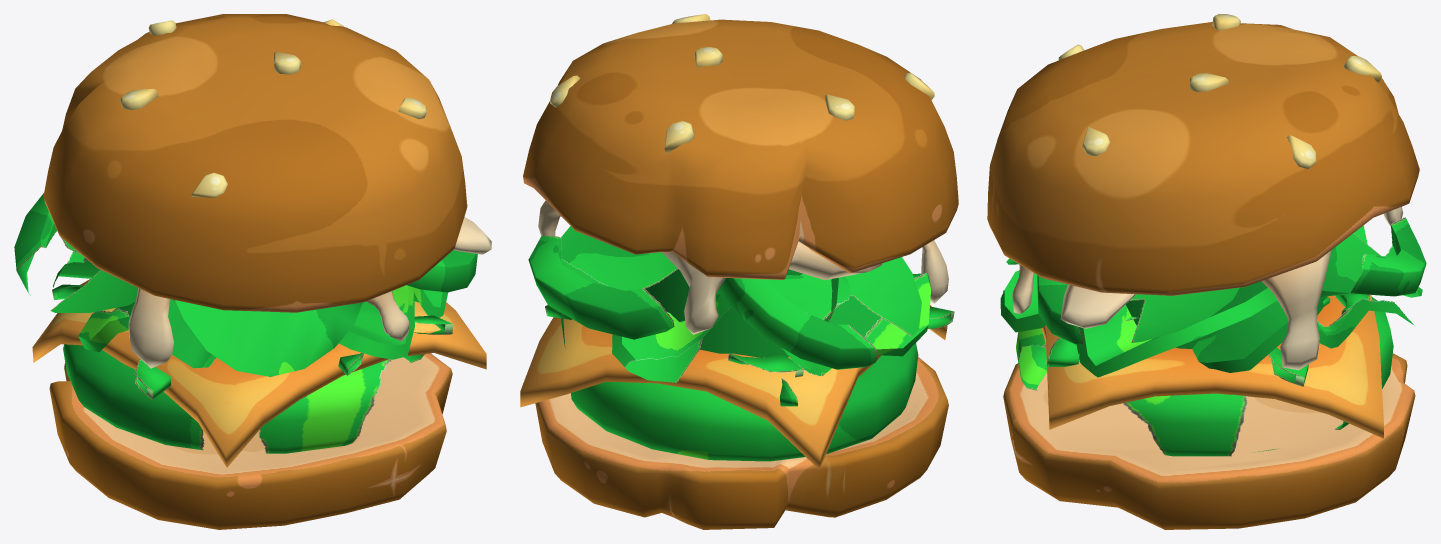
Rendered from Burger.fbx.
The picture shows the model from 3 angles, left to right: view 1: azimuth 30°, elevation 25°; view 2: azimuth 150°, elevation 25°; view 3: azimuth 270°, elevation 25°; orthographic projection. The views are drawn at different scales.
Visible parts, largest first — view 1: Buns, Tomato, Cheese, Patty, Lettuce, Sauce, Seeds, Onion; view 2: Buns, Tomato, Patty, Cheese, Lettuce, Sauce, Seeds, Onion; view 3: Buns, Cheese, Lettuce, Tomato, Patty, Sauce, Seeds, Onion.
Part boxes in pixels (left/top/right/bottom): Buns: left=43, top=14, right=467, bottom=529; Tomato: left=14, top=193, right=477, bottom=376; Cheese: left=32, top=279, right=486, bottom=467; Patty: left=63, top=344, right=424, bottom=453; Lettuce: left=53, top=251, right=448, bottom=368; Sauce: left=128, top=217, right=491, bottom=368; Seeds: left=120, top=19, right=426, bottom=197; Onion: left=52, top=284, right=453, bottom=399; Buns: left=523, top=19, right=958, bottom=529; Tomato: left=528, top=226, right=921, bottom=369; Patty: left=571, top=343, right=918, bottom=461; Cheese: left=520, top=305, right=947, bottom=469; Lettuce: left=561, top=269, right=930, bottom=382; Sauce: left=538, top=200, right=948, bottom=334; Seeds: left=550, top=14, right=934, bottom=154; Onion: left=545, top=305, right=954, bottom=406; Buns: left=987, top=22, right=1419, bottom=529; Cheese: left=1041, top=294, right=1383, bottom=438; Lettuce: left=1000, top=225, right=1422, bottom=377; Tomato: left=1006, top=217, right=1426, bottom=344; Patty: left=1016, top=297, right=1393, bottom=456; Sauce: left=1012, top=206, right=1403, bottom=370; Seeds: left=1058, top=14, right=1381, bottom=168; Onion: left=1003, top=290, right=1370, bottom=386.
Size of the model in its own units: 121 by 118 by 118.
